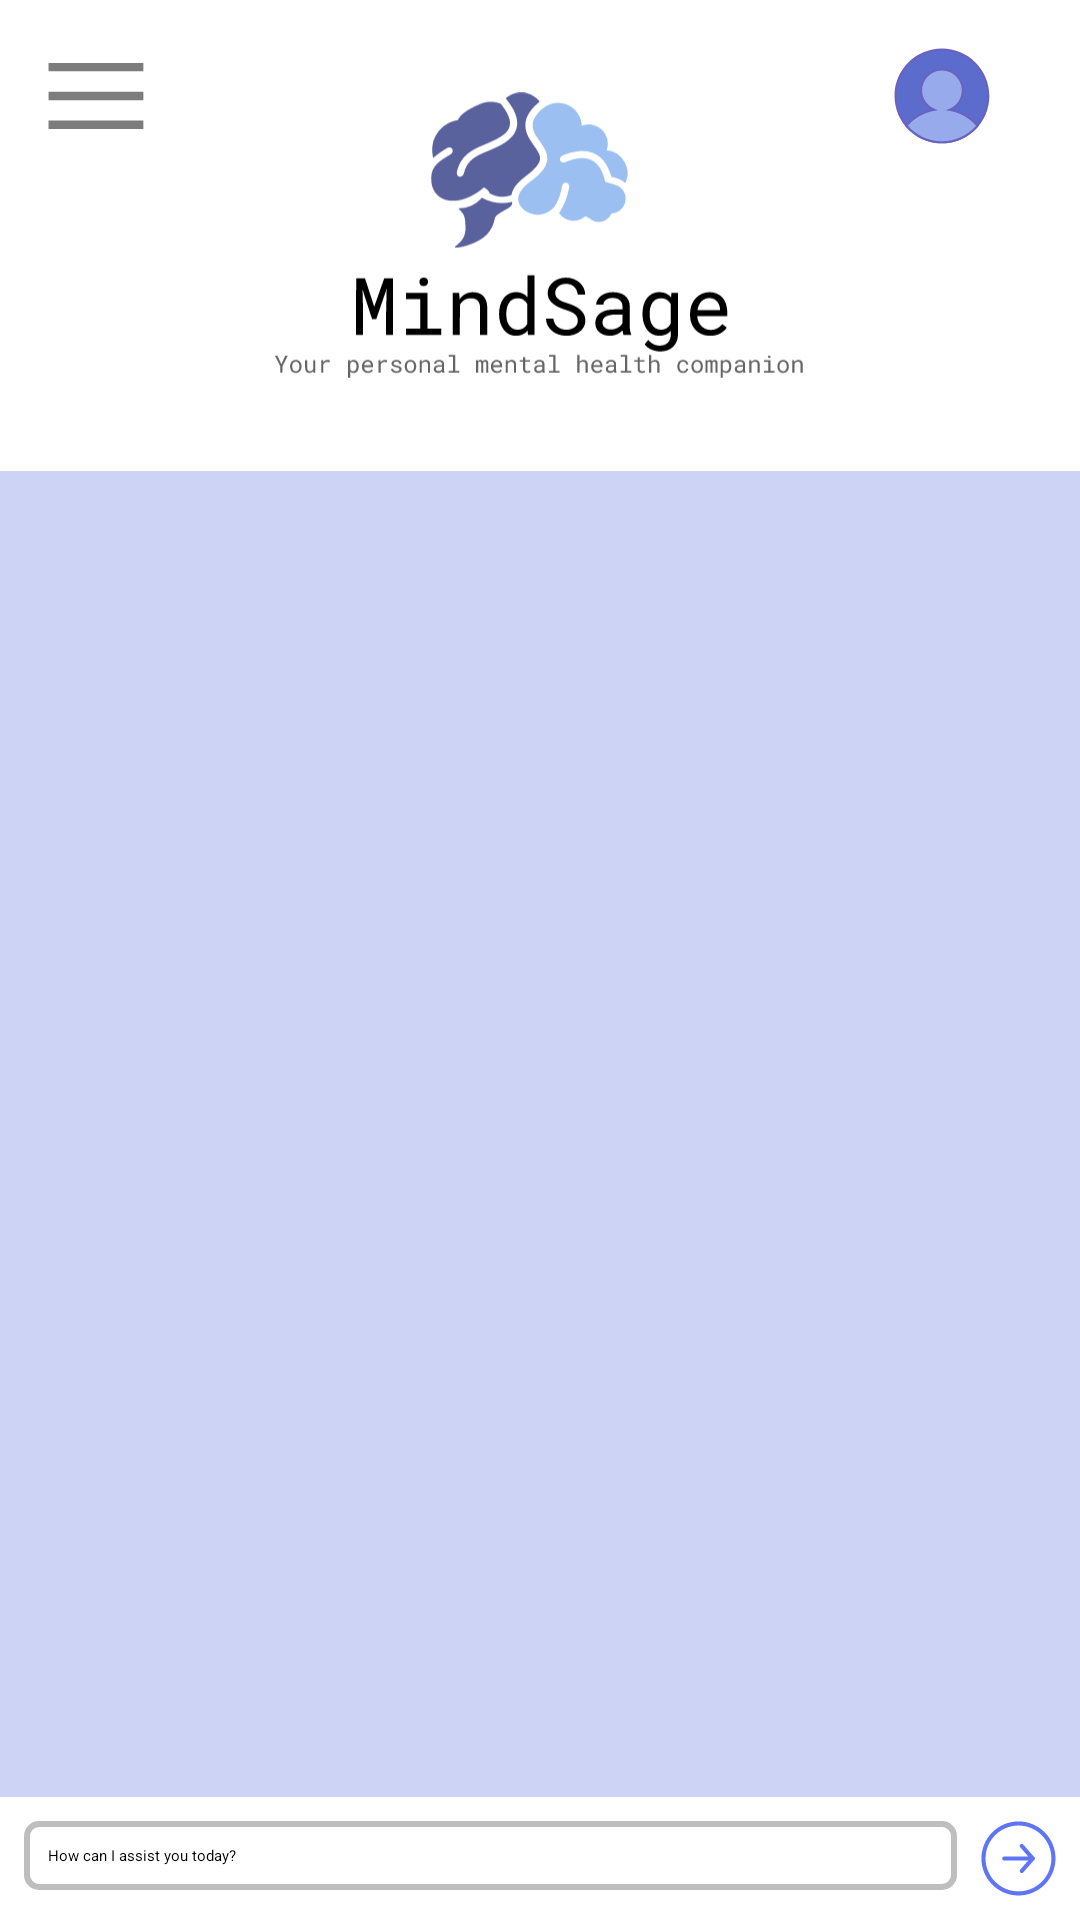

Icon bounding boxes for this 1080 x 1920 phone screenshot, format [x1, y1, x2, y2]:
menu icon: [48, 63, 144, 129]
profile icon: [894, 48, 990, 144]
Send message button: [981, 1821, 1056, 1896]
